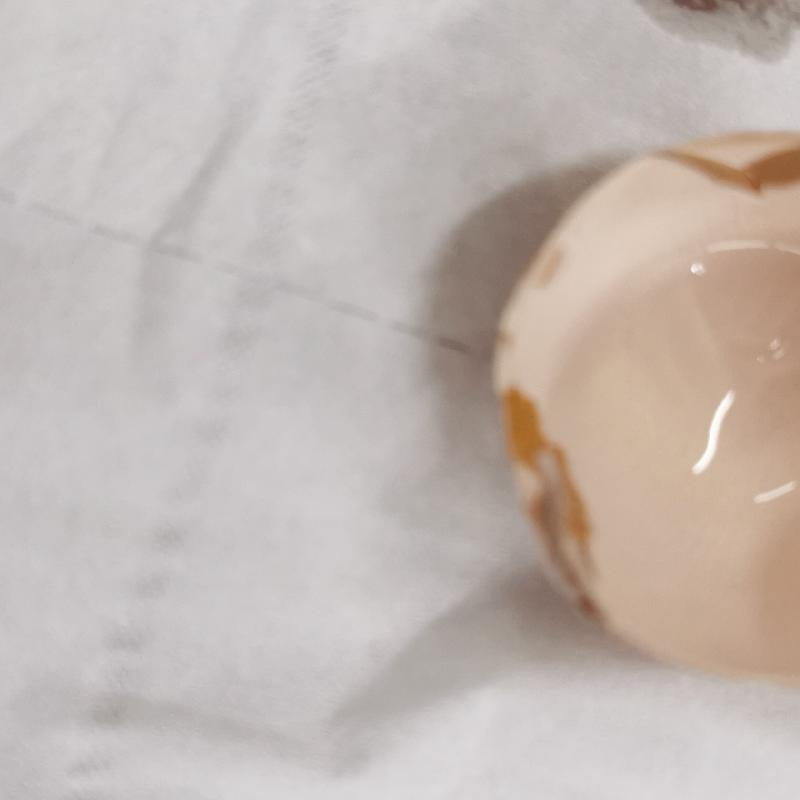eggshell: (490, 139, 800, 665)
